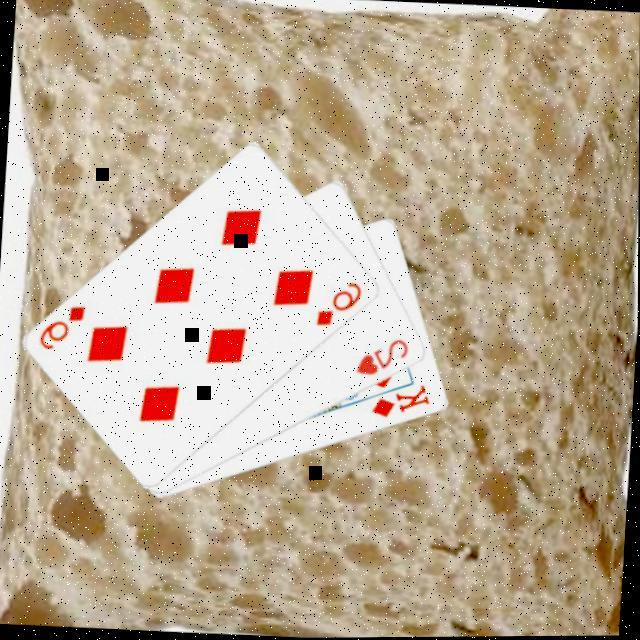2H: (352, 332, 412, 379)
6D: (35, 297, 88, 352), (313, 276, 366, 329)
KD: (368, 377, 434, 421)
